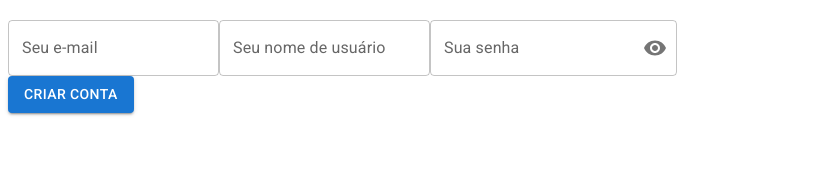
Test: Create Account Form - account validation schema › username › renders inputs error messages when try submit form with username lentgh more big then max accept
Type "123456789.123456" into the field labelled "Seu nome de usuário" at {"x": 324, "y": 48}, box [219,20,430,76]
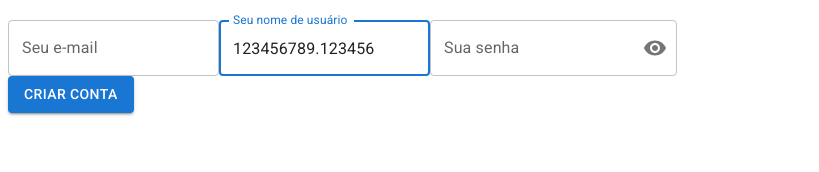
Click the button "Criar conta" at {"x": 71, "y": 94}, box [8,76,134,112]
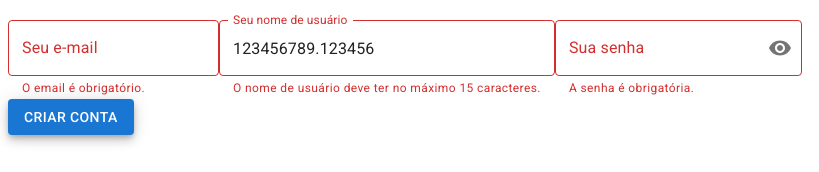
Now the text "O nome de usuário deve ter no máximo 15 caracteres." is shown, box [233,79,541,99]
